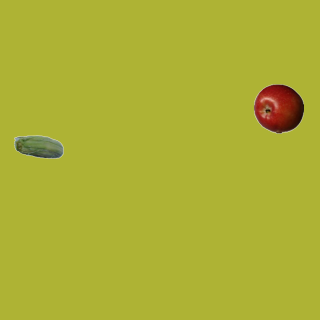Apple Braeburn: (253, 83, 303, 133)
Corn Husk: (13, 123, 63, 173)
